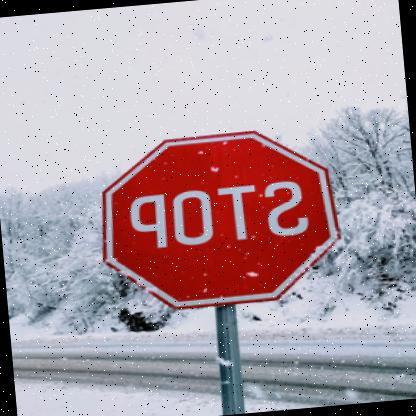stop: (96, 121, 350, 317)
